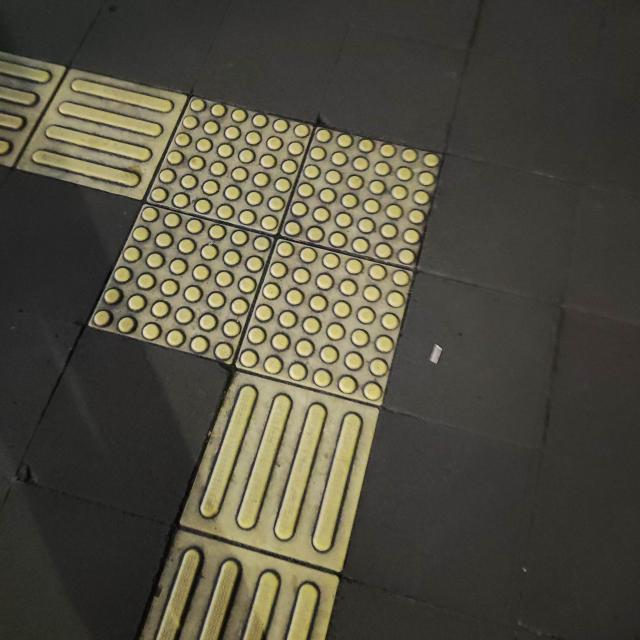kiri: (0, 17, 477, 461)
